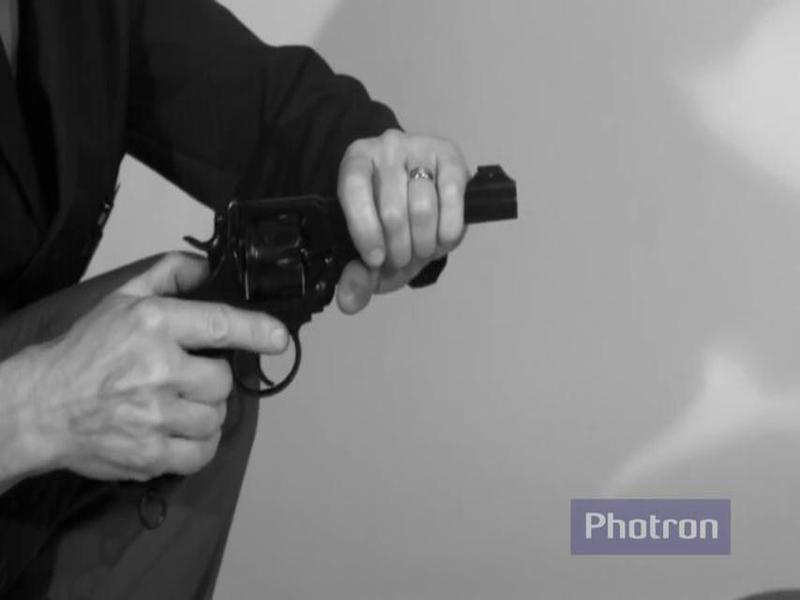Revolver: (134, 155, 548, 468)
